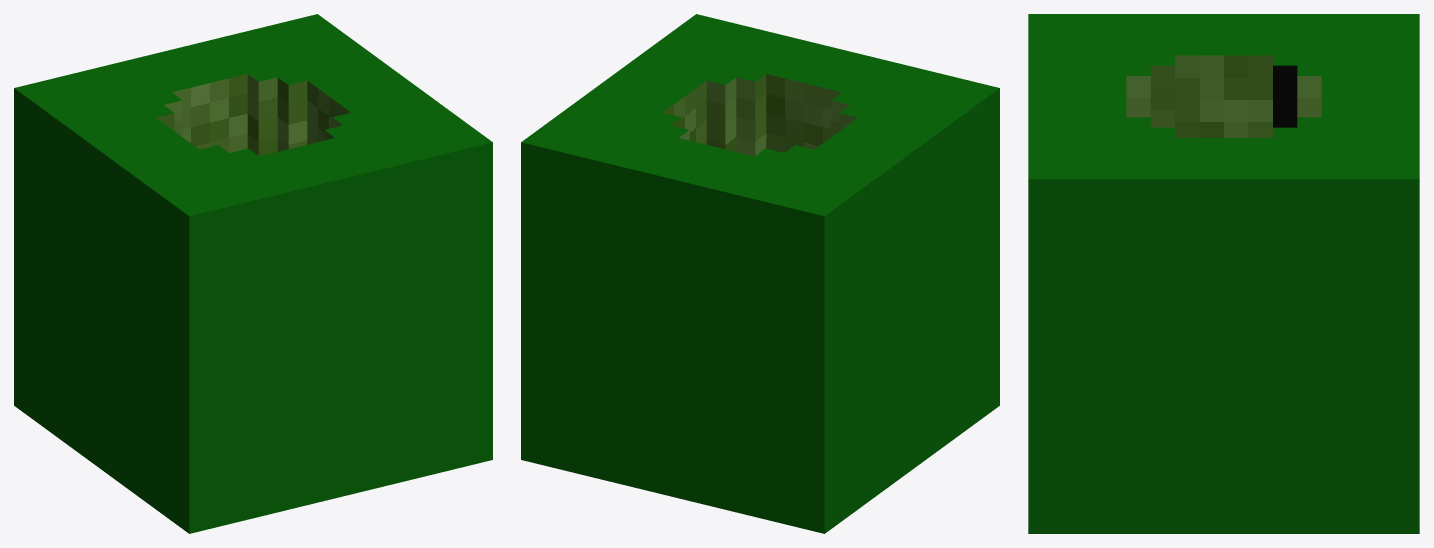
The model's file is golfhole.obj.
3 views of the same model, side by side, from view 1: azimuth 30°, elevation 25°; view 2: azimuth 150°, elevation 25°; view 3: azimuth 270°, elevation 25° (orthographic). The views are drawn at different scales.
Visible parts, largest first — view 1: cube, Bottom Part; view 2: cube, Bottom Part; view 3: cube, Bottom Part.
Part boxes in pixels (x1=…): cube: x1=14, y1=14, x2=492, y2=335; Bottom Part: x1=14, y1=207, x2=492, y2=533; cube: x1=521, y1=14, x2=999, y2=335; Bottom Part: x1=521, y1=207, x2=999, y2=533; cube: x1=1028, y1=14, x2=1419, y2=312; Bottom Part: x1=1028, y1=312, x2=1419, y2=533.
Size of the model in its own units: 1 by 1 by 1.
